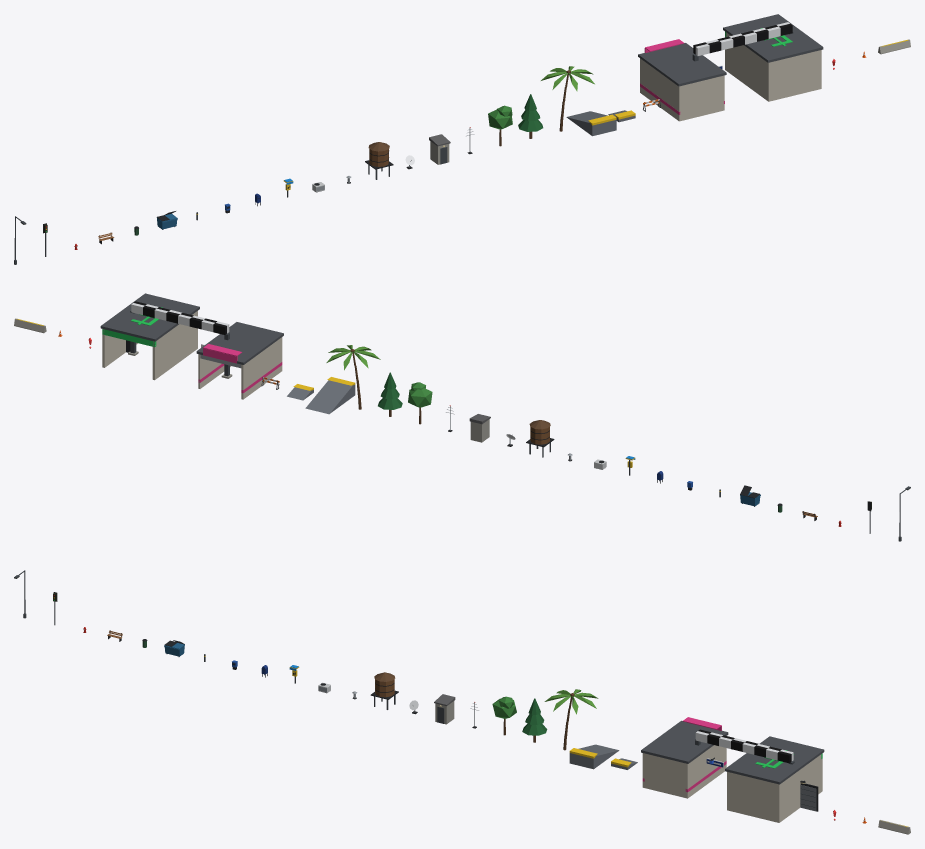
The model's file is props.glb.
3 renders of one model, top to bottom at view 1: azimuth 30°, elevation 25°; view 2: azimuth 150°, elevation 25°; view 3: azimuth 330°, elevation 25°, orthographic.
Visible parts, largest first — view 1: export_bay_back, spray_booth_roof, export_bay_roof, export_bay_wall-1, spray_booth_back, spray_booth_wall-1, start_gantry, ramp_deck; view 2: export_bay_roof, spray_booth_roof, export_bay_wall-1, spray_booth_wall-1, start_gantry, ramp_deck, export_bay_wall+1; view 3: export_bay_roof, export_bay_back, spray_booth_roof, spray_booth_back, export_bay_wall+1, start_gantry, spray_booth_wall+1, ramp_deck.
Boxes of the visible parts, x1,y1,x2,y2 form: export_bay_back: (767, 50, 821, 101); spray_booth_roof: (638, 43, 726, 86); export_bay_roof: (723, 14, 823, 62); export_bay_wall-1: (725, 32, 770, 101); spray_booth_back: (679, 75, 724, 120); spray_booth_wall-1: (640, 58, 681, 121); start_gantry: (693, 22, 792, 55); ramp_deck: (566, 111, 616, 136); export_bay_roof: (100, 293, 199, 341); spray_booth_roof: (196, 322, 283, 364); export_bay_wall-1: (152, 311, 196, 380); spray_booth_wall-1: (241, 338, 282, 399); start_gantry: (131, 301, 229, 334); ramp_deck: (305, 380, 355, 414); export_bay_wall+1: (102, 329, 137, 367); export_bay_roof: (725, 736, 824, 784); export_bay_back: (727, 772, 780, 822); spray_booth_roof: (641, 720, 728, 763); spray_booth_back: (642, 753, 688, 798); export_bay_wall+1: (777, 754, 822, 822); start_gantry: (695, 729, 793, 763); spray_booth_wall+1: (686, 745, 726, 797); ramp_deck: (569, 744, 619, 769).
Size of the model in its own units: 118 by 8.14 by 10.3.
